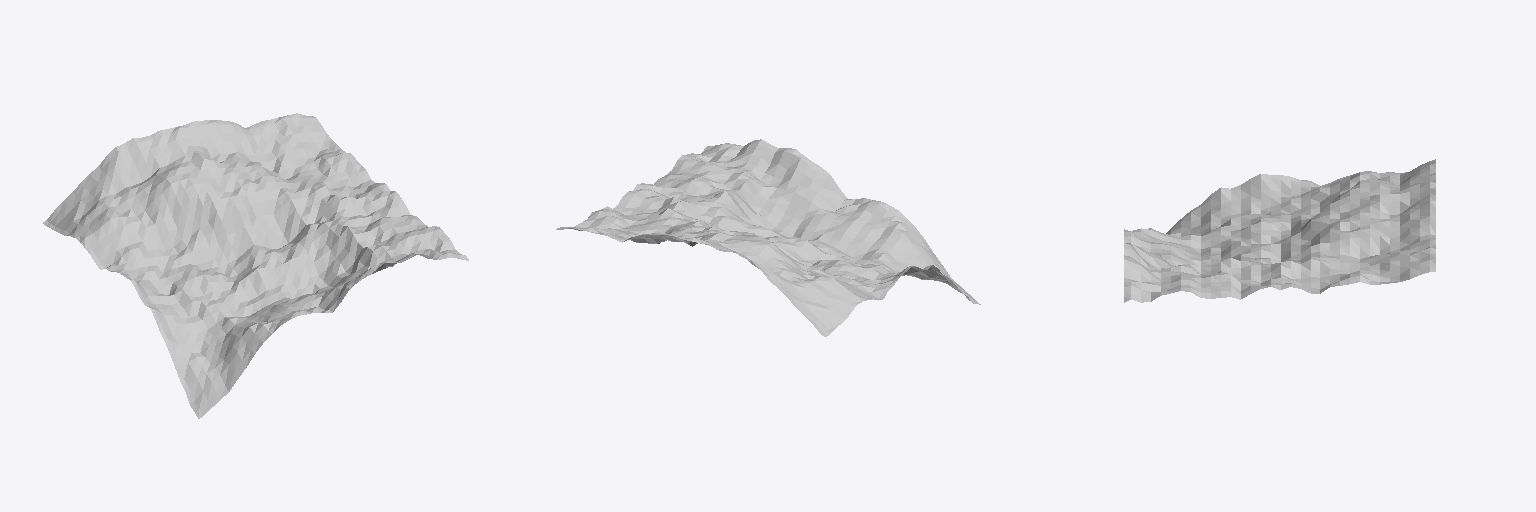
The model's file is heightmap.058.obj.
3 views of the same model, side by side, from view 1: azimuth 30°, elevation 25°; view 2: azimuth 150°, elevation 25°; view 3: azimuth 270°, elevation 25° (orthographic).
Parts seen in each view (by area): view 1: heightmap.058_Plane.058; view 2: heightmap.058_Plane.058; view 3: heightmap.058_Plane.058.
Boxes of the visible parts, <box> form: heightmap.058_Plane.058: <box>43,113,468,418</box>; heightmap.058_Plane.058: <box>556,139,980,336</box>; heightmap.058_Plane.058: <box>1124,159,1435,302</box>.
Bounding box in the file's own units: 32 × 16.57 × 32.